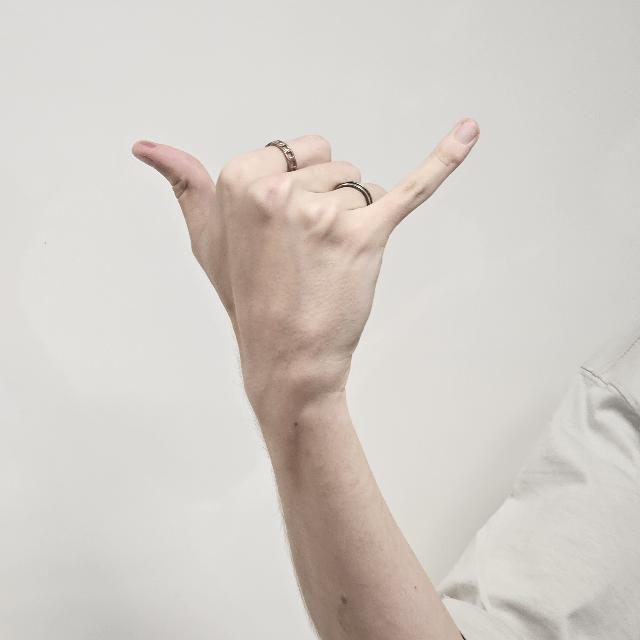Direita: (127, 121, 487, 391)
